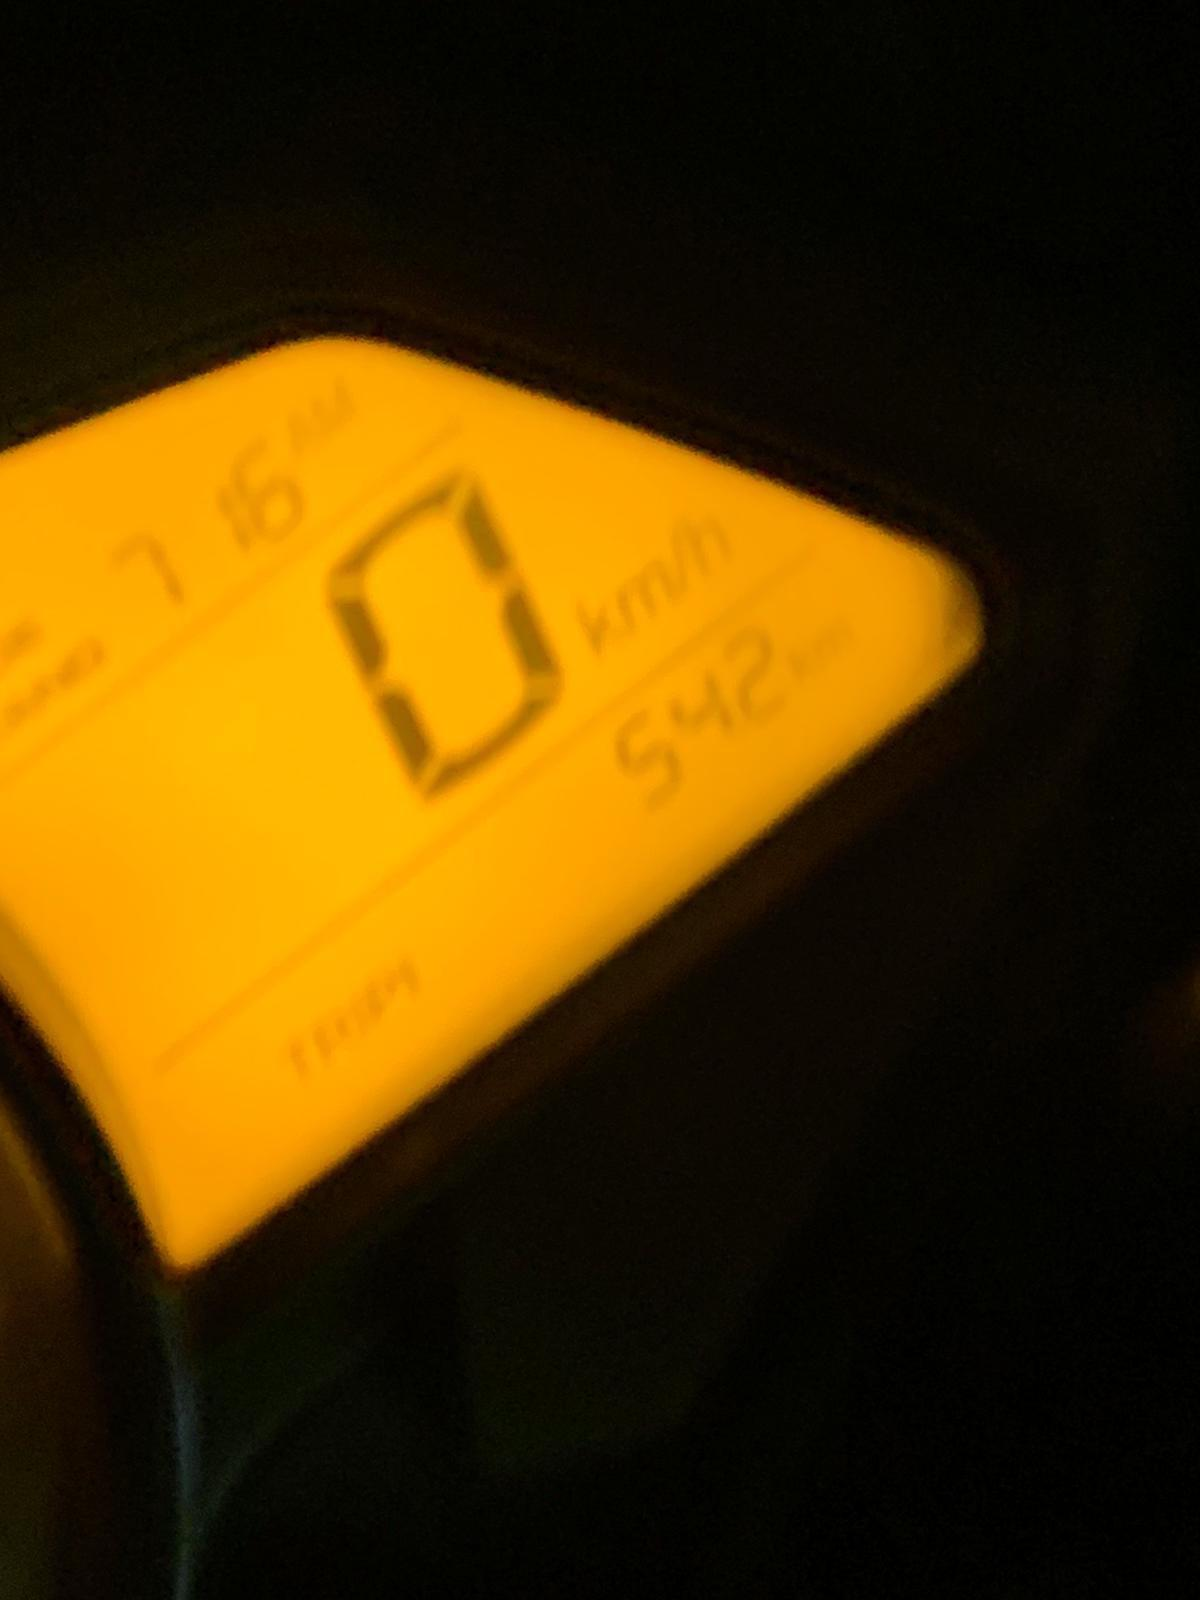0: (321, 490, 560, 795)
1: (202, 491, 257, 567)
2: (718, 630, 787, 731)
4: (668, 674, 737, 747)
5: (608, 712, 681, 815)
6: (231, 437, 313, 538)
7: (96, 522, 194, 614)
X: (684, 509, 742, 580), (621, 564, 673, 627), (577, 595, 623, 659), (274, 1034, 318, 1100), (310, 379, 361, 433), (287, 416, 332, 465)
odometer: (6, 319, 1016, 1270)
